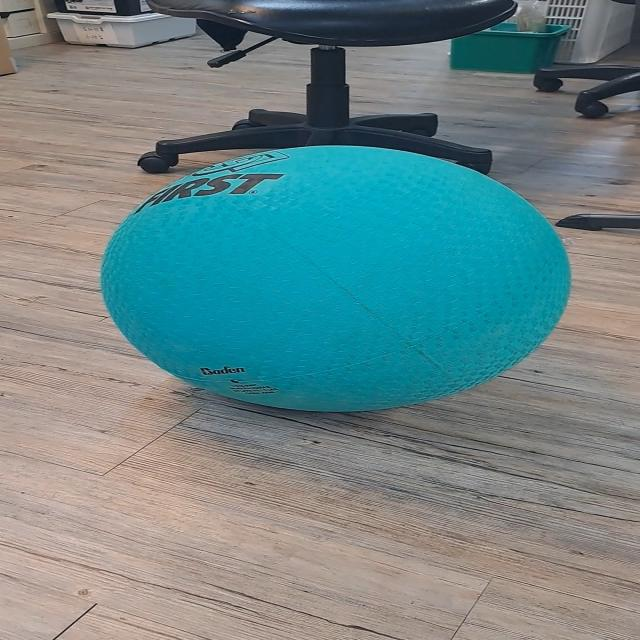ALGAE: (97, 144, 572, 414)
